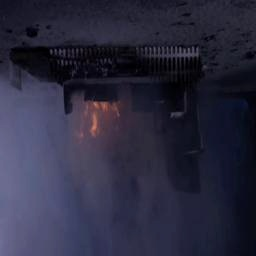fire: (72, 87, 124, 150)
smoke: (0, 142, 159, 256)
